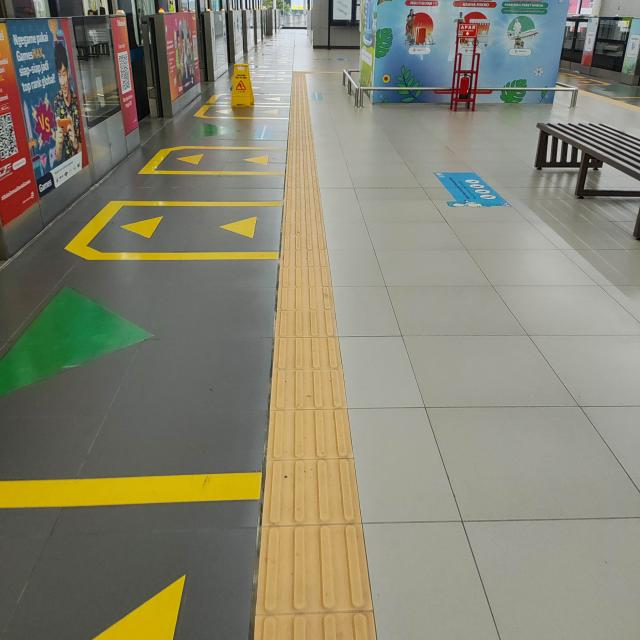lurus: (260, 70, 354, 640)
